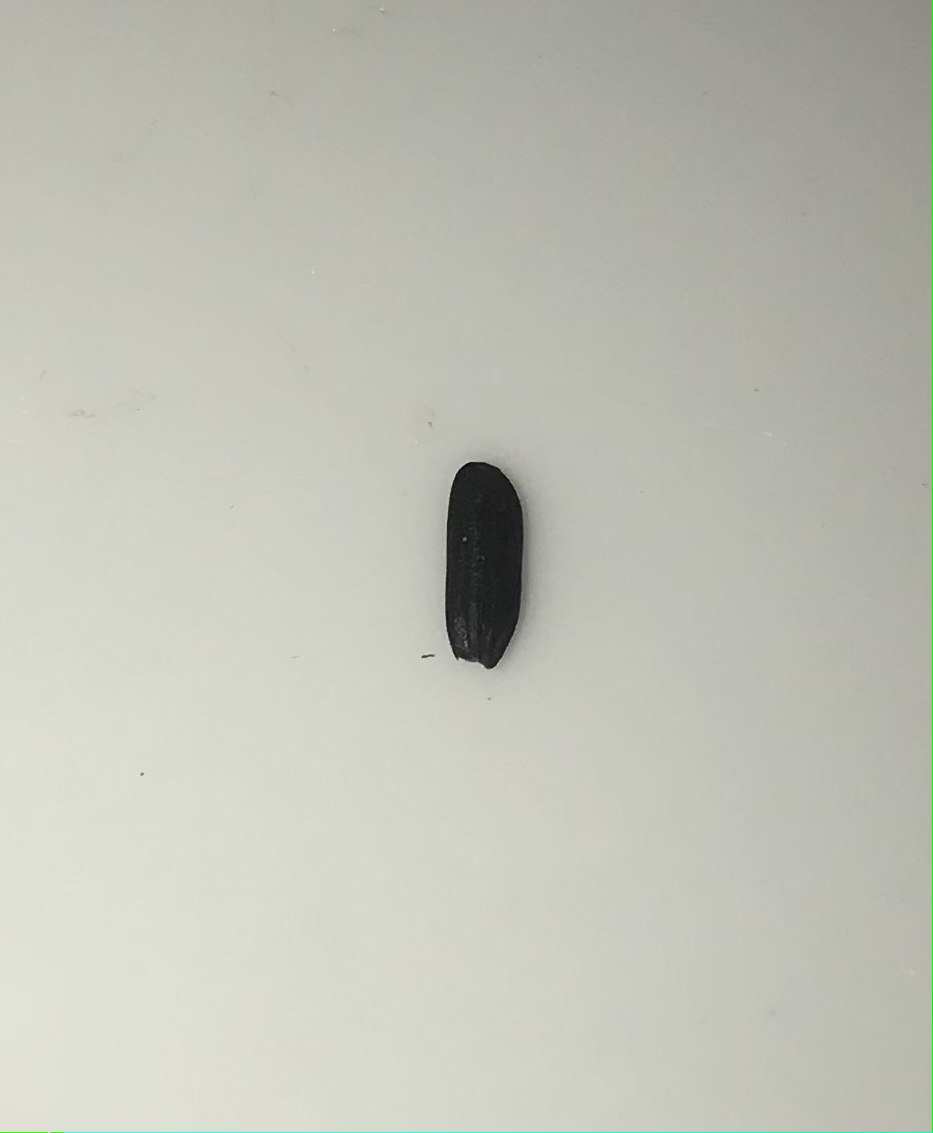Gao Nep Cam: (447, 446, 528, 687)
